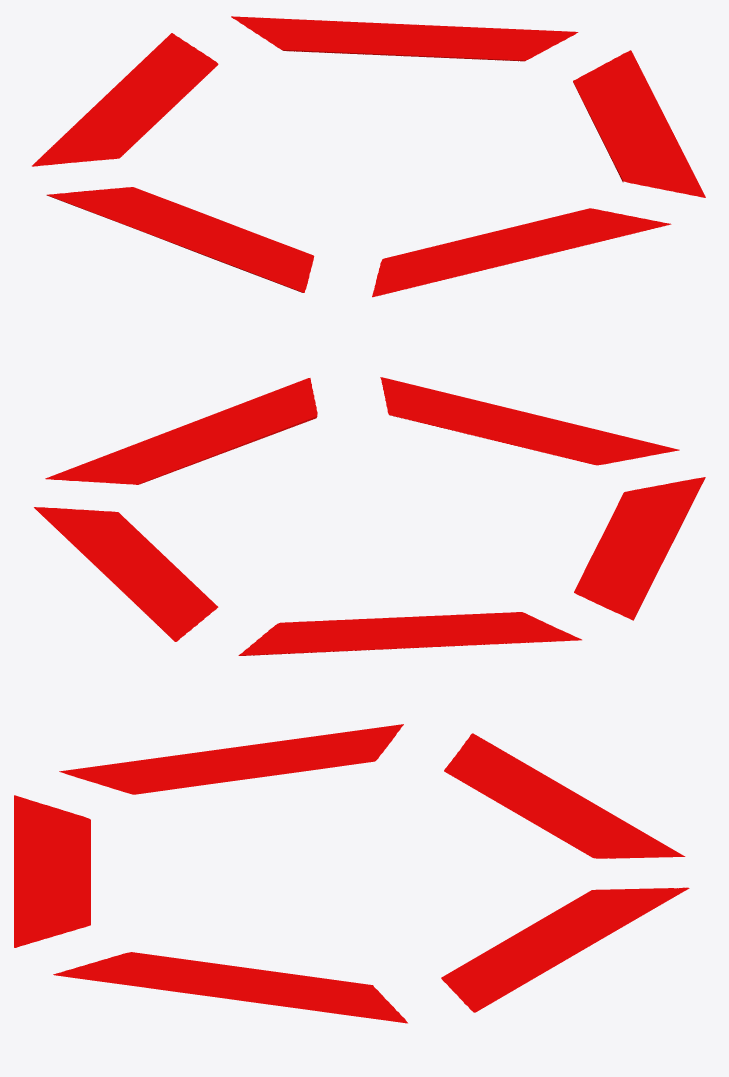
The model's file is HealthPentagon.obj.
3 views of the same model, one above another, from view 1: azimuth 30°, elevation 25°; view 2: azimuth 150°, elevation 25°; view 3: azimuth 270°, elevation 25° (orthographic). The views are drawn at different scales.
Parts seen in each view (by area): view 1: Circle; view 2: Circle; view 3: Circle.
Boxes of the visible parts, x1,y1,x2,y2 form: Circle: (32,16,705,297); Circle: (34,377,705,655); Circle: (14,724,689,1023).
Bounding box in the file's own units: 2.78 × 0.1383 × 2.64.
